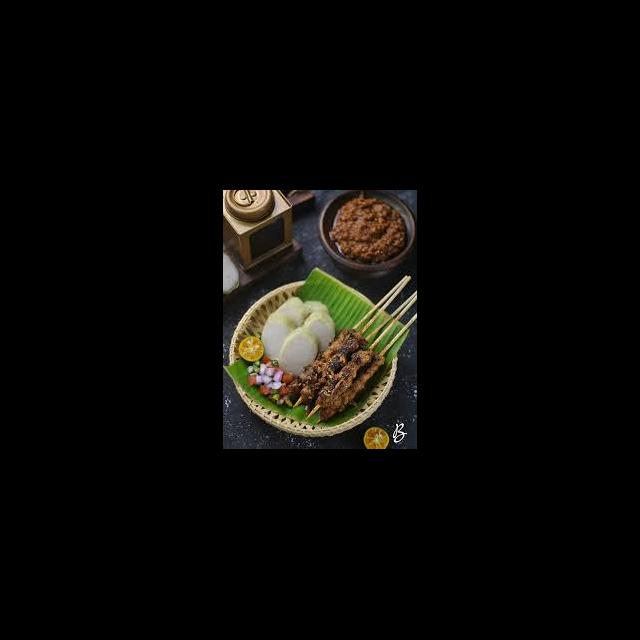food_waste: (272, 317, 363, 405)
